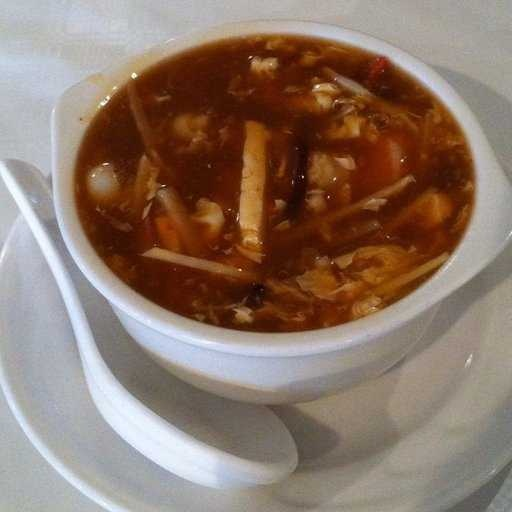soup: (62, 33, 496, 354)
